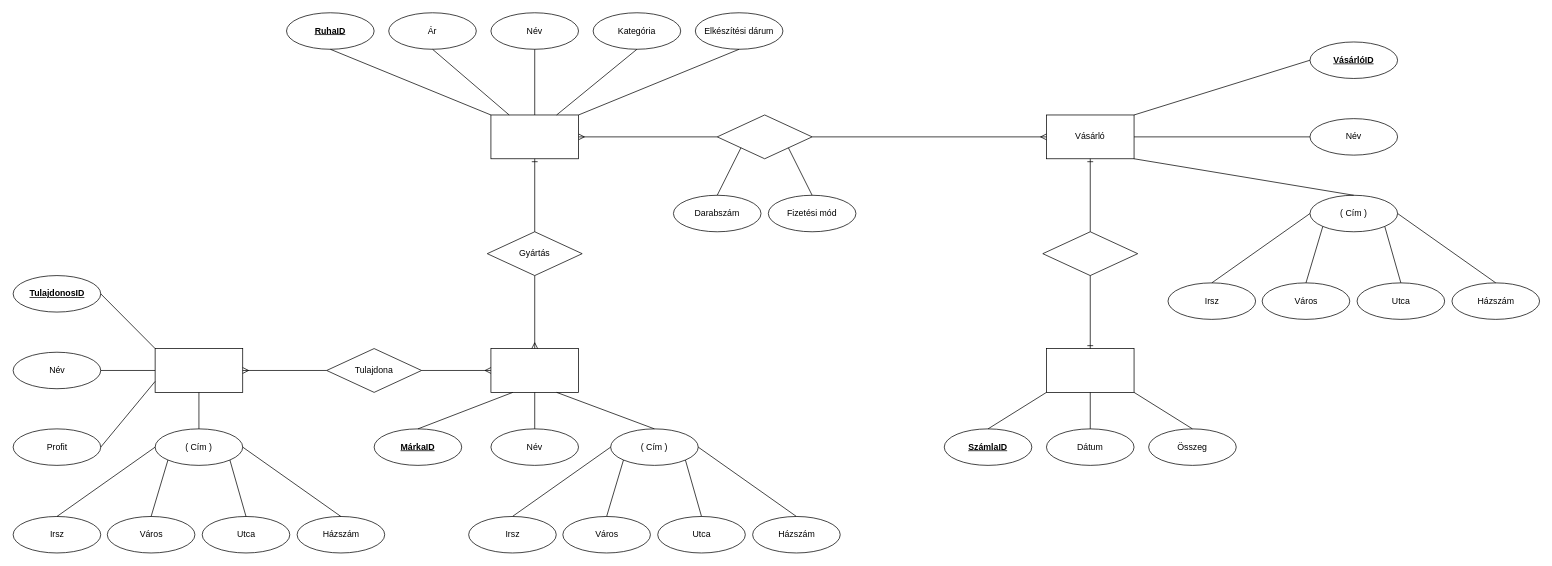
Image size: 1552x566. Some labels were removed from this diagram. Here are the shapes that lost their labels. From the top down, the centre of each, then its label:
(534,136): Ruha
(764,136): Vásárlás
(1090,253): Vásárlási számla
(198,370): Tulajdonos
(534,370): Márka
(1090,370): Számla
